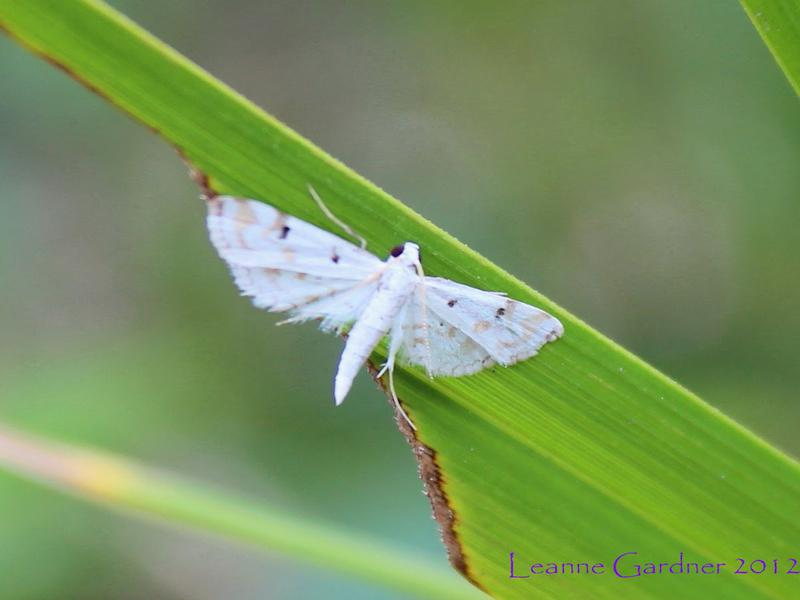Rice_case_worm: (177, 151, 573, 444)
